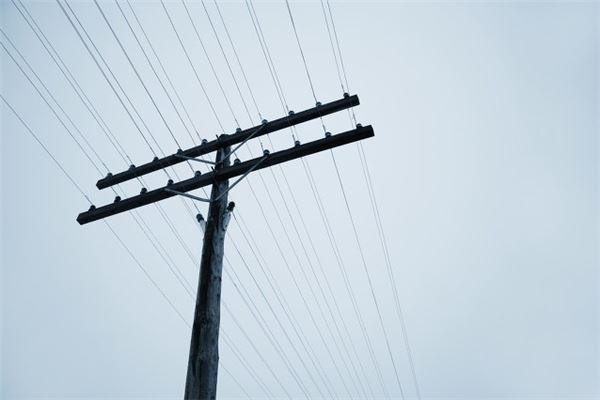utility_pole: (60, 76, 384, 263)
